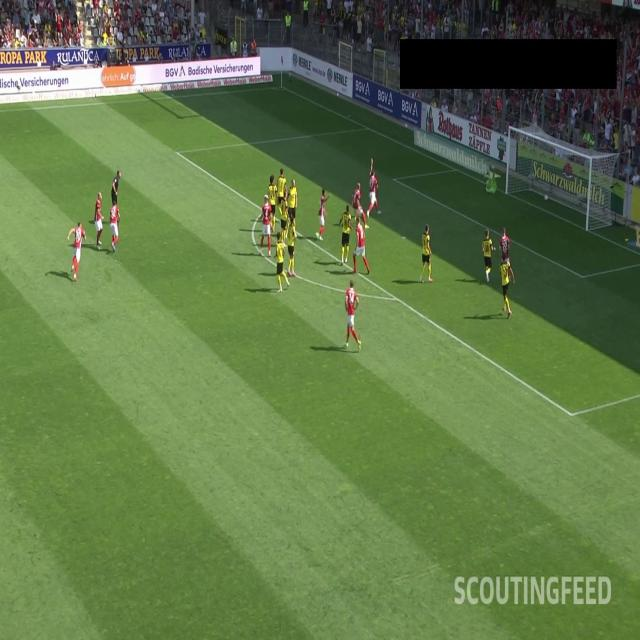ball: (542, 188, 548, 205)
player: (342, 276, 363, 355), (65, 220, 87, 282), (351, 214, 371, 276), (271, 228, 289, 296), (497, 254, 515, 319), (417, 220, 435, 284), (498, 224, 516, 286), (366, 155, 382, 219), (314, 185, 332, 241), (480, 226, 497, 284), (286, 215, 301, 279), (258, 193, 273, 256), (91, 190, 106, 252), (352, 178, 369, 229), (338, 204, 353, 260), (286, 176, 299, 235), (108, 198, 122, 252), (482, 166, 506, 196), (276, 164, 288, 221), (266, 172, 276, 230), (280, 188, 289, 252)
referee: (110, 168, 122, 235)
